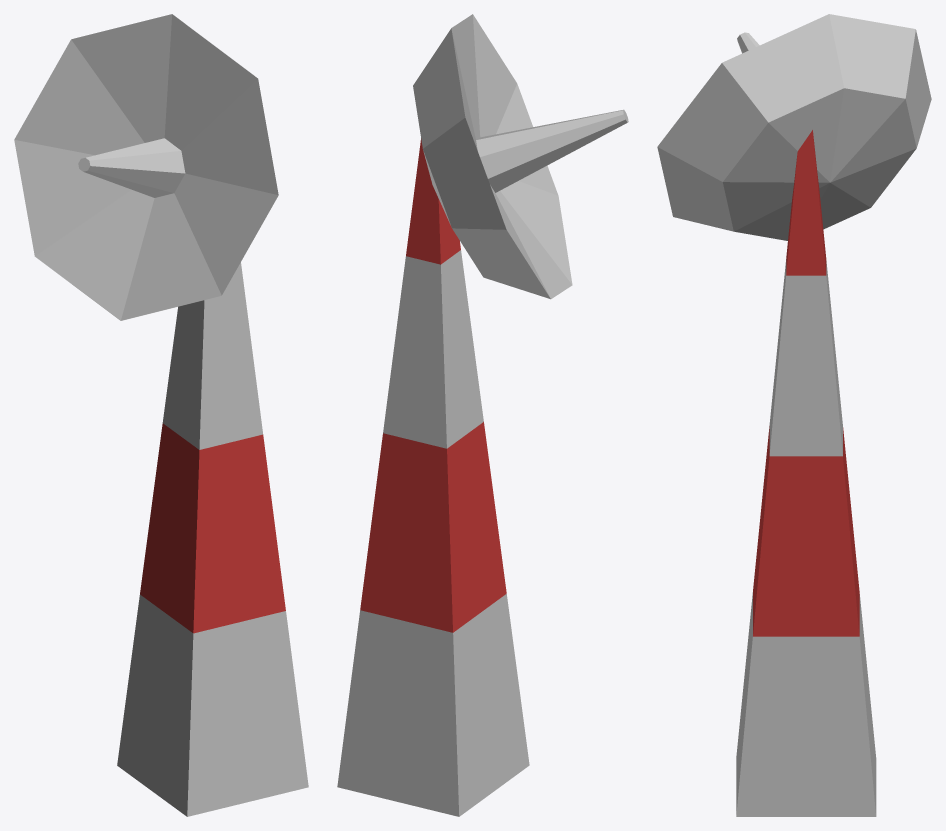
File: Radiomasto_mod.fbx
3 renders of one model, left to right at view 1: azimuth 30°, elevation 25°; view 2: azimuth 150°, elevation 25°; view 3: azimuth 270°, elevation 25°, orthographic.
Visible parts, largest first — view 1: Radiomasto; view 2: Radiomasto; view 3: Radiomasto.
Boxes of the visible parts, x1,y1,x2,y2 form: Radiomasto: (14,14,308,816); Radiomasto: (337,14,628,816); Radiomasto: (657,14,931,816).
Bounding box in the file's own units: 267 × 866 × 284.
